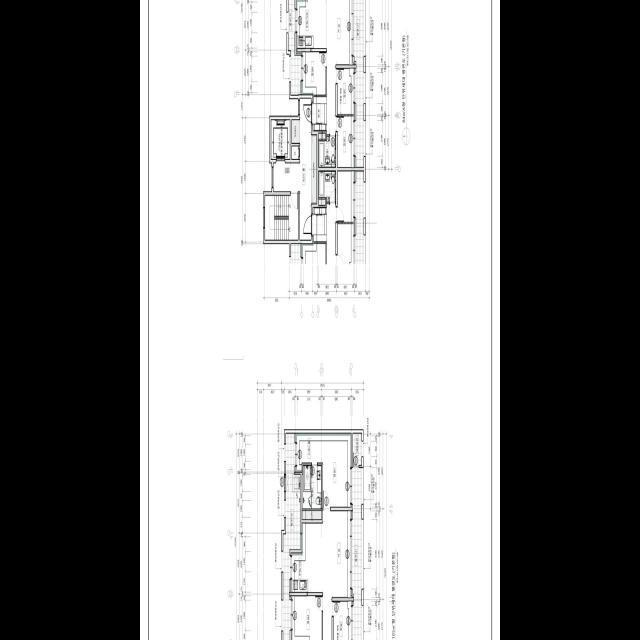background: (140, 0, 500, 640)
space_balconi: (283, 433, 300, 640), (352, 467, 362, 640), (354, 0, 364, 166), (288, 0, 301, 94)
space_bedroom: (323, 435, 350, 506), (292, 595, 322, 640), (303, 51, 326, 94), (338, 116, 354, 167), (337, 68, 353, 114), (334, 600, 351, 640)
space_dressroom: (297, 435, 323, 469)
space_elevator_hall: (274, 98, 311, 239)
space_front: (312, 96, 327, 130)
space_kitchen: (292, 523, 323, 591), (297, 0, 327, 47)
space_living_room: (323, 510, 350, 640), (327, 0, 352, 134)
space_other: (311, 135, 316, 202), (353, 433, 362, 466), (292, 119, 300, 142), (303, 510, 322, 519), (292, 146, 298, 158), (319, 133, 325, 138)
space_staircase: (265, 195, 298, 239)
space_toilet: (303, 465, 321, 508), (319, 136, 336, 166)
